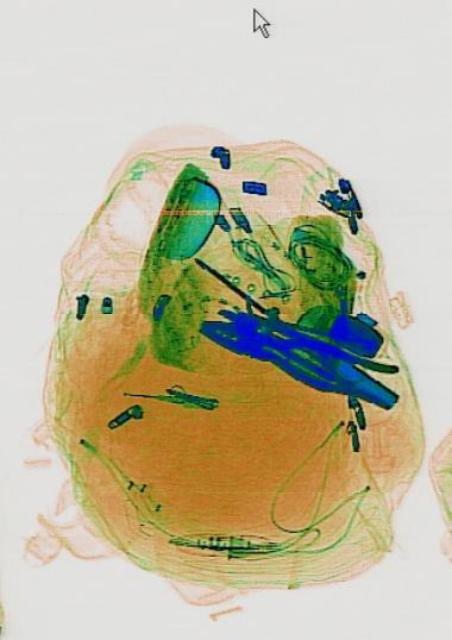Pliers: (193, 296, 397, 412)
